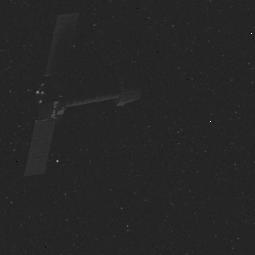xmm_newton: (28, 17, 137, 176)
